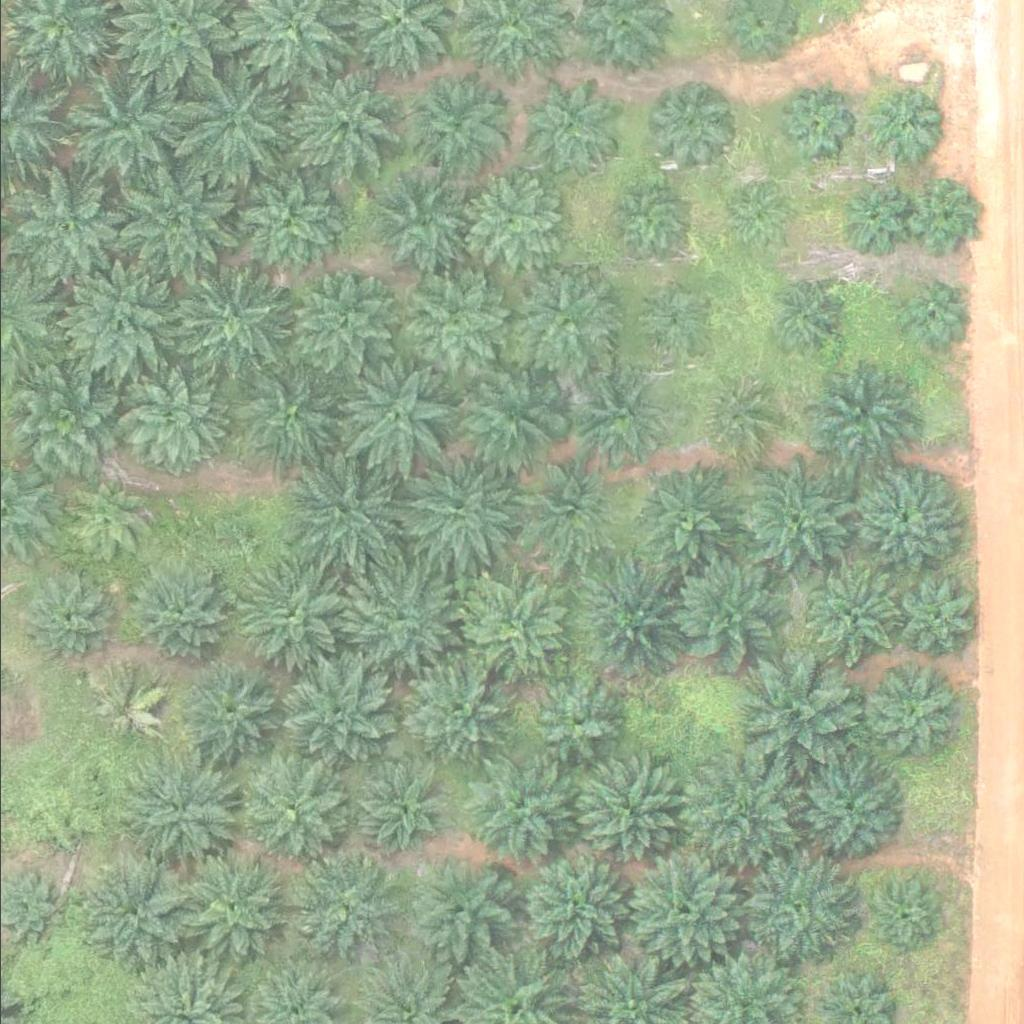Kelapa_Sawit: (796, 350, 922, 475), (330, 352, 456, 477), (735, 457, 861, 582), (665, 552, 791, 677), (732, 649, 858, 774), (673, 752, 799, 877), (508, 846, 634, 971), (108, 350, 234, 475), (6, 355, 132, 480), (168, 254, 294, 379), (59, 251, 185, 376), (225, 152, 351, 277), (115, 157, 241, 282), (5, 157, 131, 282), (275, 64, 401, 189), (167, 61, 293, 186), (66, 59, 192, 184), (567, 758, 681, 871), (282, 850, 396, 963), (452, 360, 565, 473), (398, 456, 511, 569), (463, 756, 576, 869), (345, 749, 458, 862), (397, 850, 510, 963), (174, 850, 287, 963), (73, 854, 186, 967), (238, 558, 351, 671), (125, 554, 238, 667), (286, 452, 399, 565), (629, 853, 743, 965), (512, 266, 625, 378), (397, 268, 510, 380), (626, 466, 739, 578), (510, 453, 623, 565), (573, 565, 686, 677), (454, 570, 567, 682), (344, 563, 457, 675), (399, 651, 512, 763), (745, 848, 858, 960), (234, 755, 347, 867), (120, 754, 233, 866), (283, 655, 396, 767), (233, 357, 346, 469), (281, 266, 394, 378), (857, 467, 958, 567), (17, 565, 118, 665), (57, 470, 158, 570), (519, 78, 619, 178), (404, 80, 504, 180), (458, 171, 558, 271), (370, 170, 470, 270), (801, 566, 901, 666), (795, 756, 895, 856), (80, 663, 169, 751), (645, 83, 733, 171), (602, 178, 690, 266), (532, 680, 620, 768), (180, 670, 268, 758), (579, 375, 667, 462), (892, 572, 980, 659), (866, 666, 954, 753), (861, 877, 937, 952), (699, 381, 774, 456), (866, 89, 941, 164), (774, 89, 849, 164), (908, 173, 983, 248), (830, 177, 905, 252), (893, 275, 968, 350), (763, 278, 838, 353), (633, 284, 708, 359), (723, 183, 786, 245)
